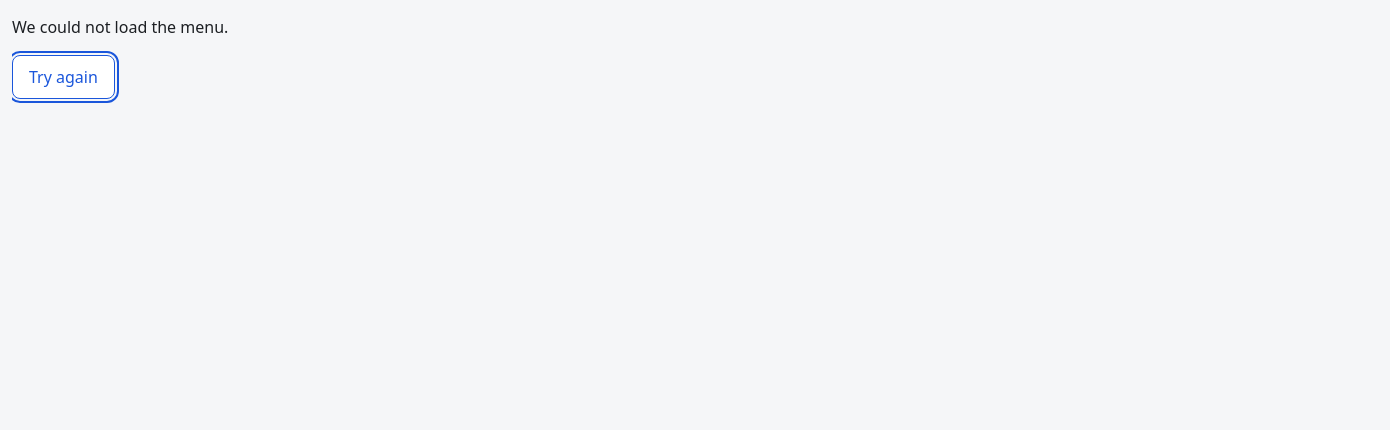
Test: RestaurantPage: the menu › shows an error with “Try again”, and loads the menu on the second try
Expected: the message shows "We could not load the menu.", [12,16,228,38]
Click the button "Try again" at (63, 77), box [12,55,115,99]
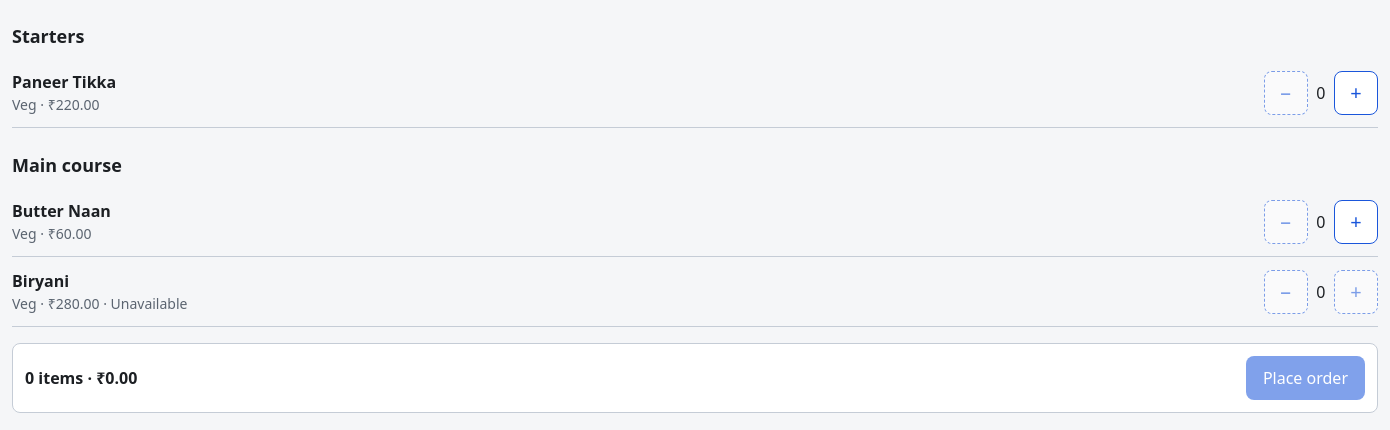
Now the button named "Add Paneer Tikka" is shown, box [1334,70,1378,114]
